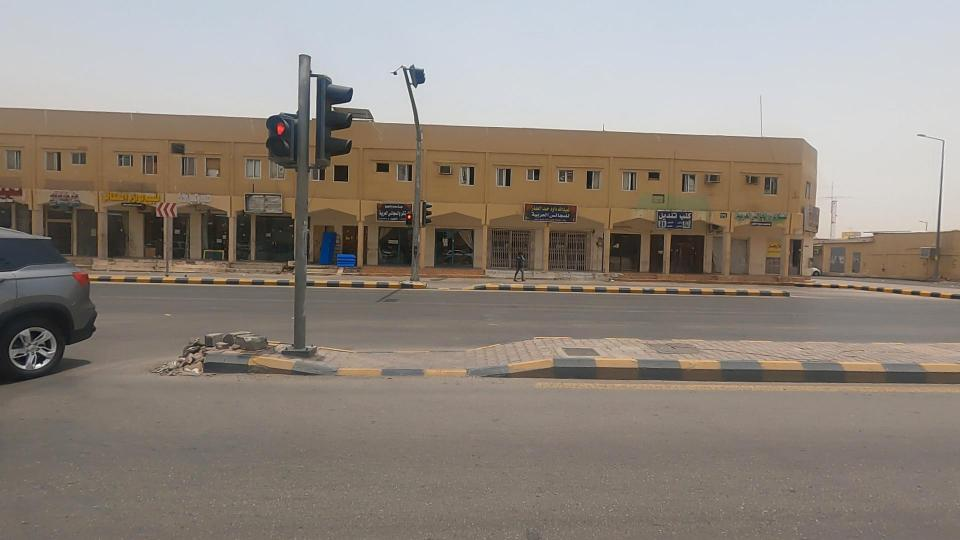BAD_BILLBOARD: (218, 165, 303, 243)
GARBAGE: (135, 298, 257, 421)
